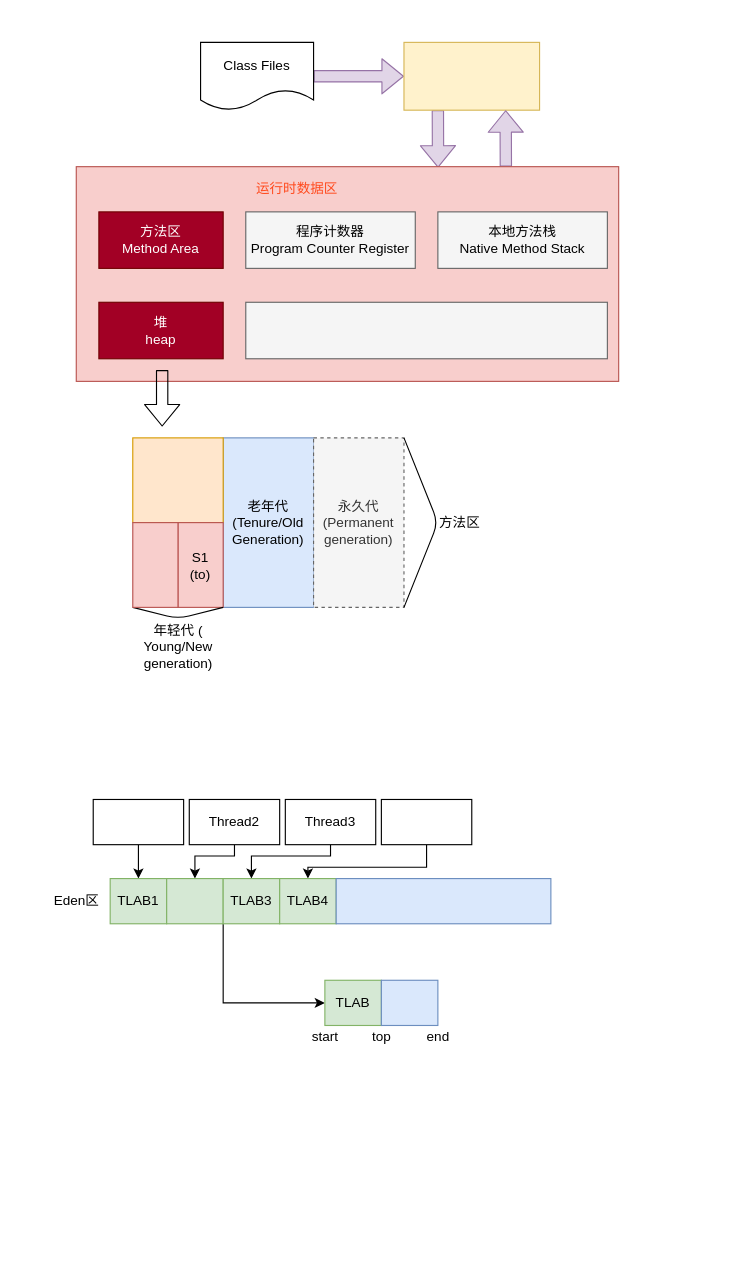
Image size: 739x1270. Some labels were removed from this diagram. Here are the shapes that lost their labels. From the top down, the centre of each, then its label:
the point at 471,75: 类加载器子系统
the point at 426,330: 虚拟机栈 Java Virtual Machine Stack
the point at 177,480: 伊甸园(Eden)
the point at 155,564: So (from)
the point at 138,821: Thread1
the point at 426,821: Thread4
the point at 194,900: TLAB2
